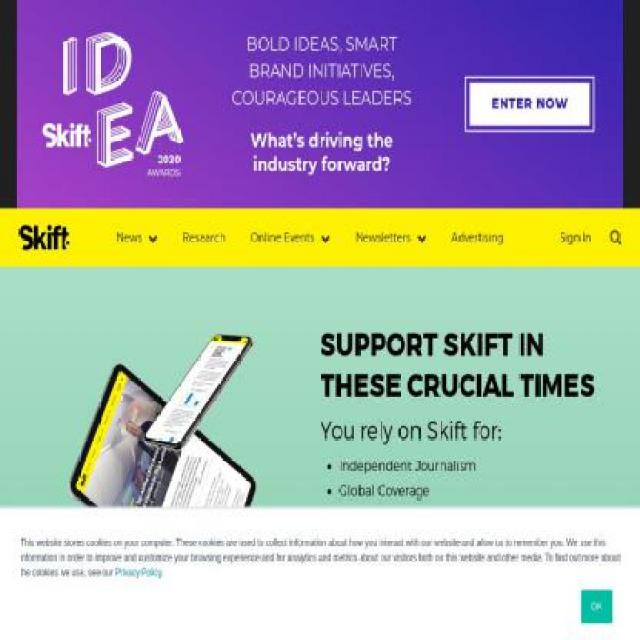button: (320, 595, 495, 639), (580, 590, 614, 624)
